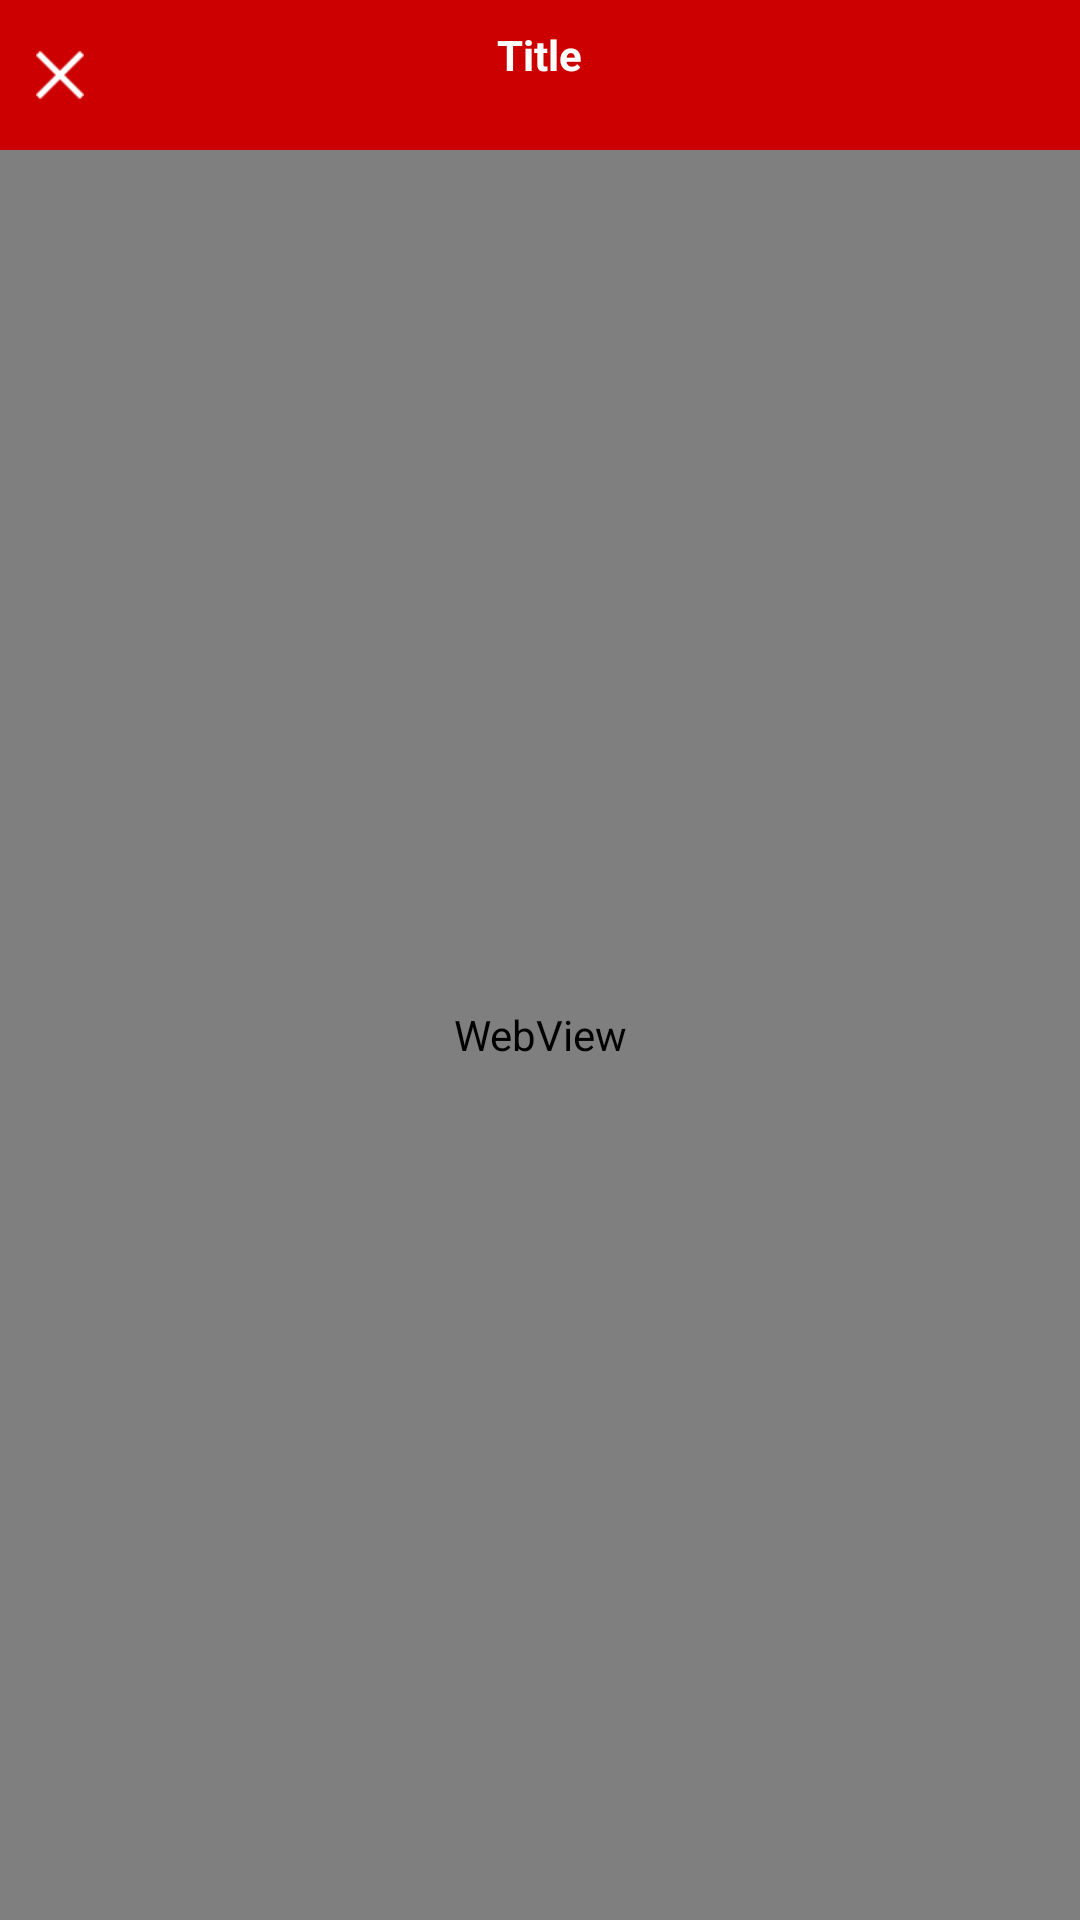

Icons on this 1080w x 1920h Android screen, each with its box as (x1, y1, x2, y2):
close: (36, 51, 84, 99)
